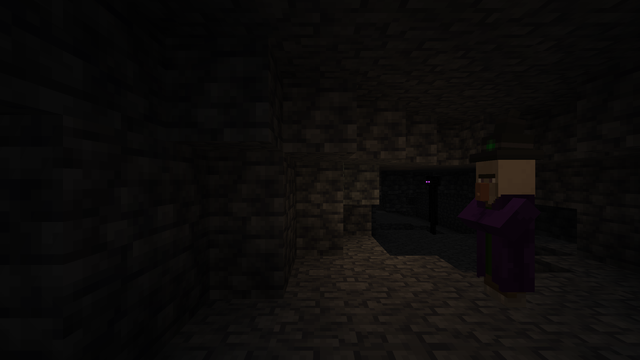endermens: (424, 174, 441, 235)
sorcieres: (468, 153, 544, 309)
